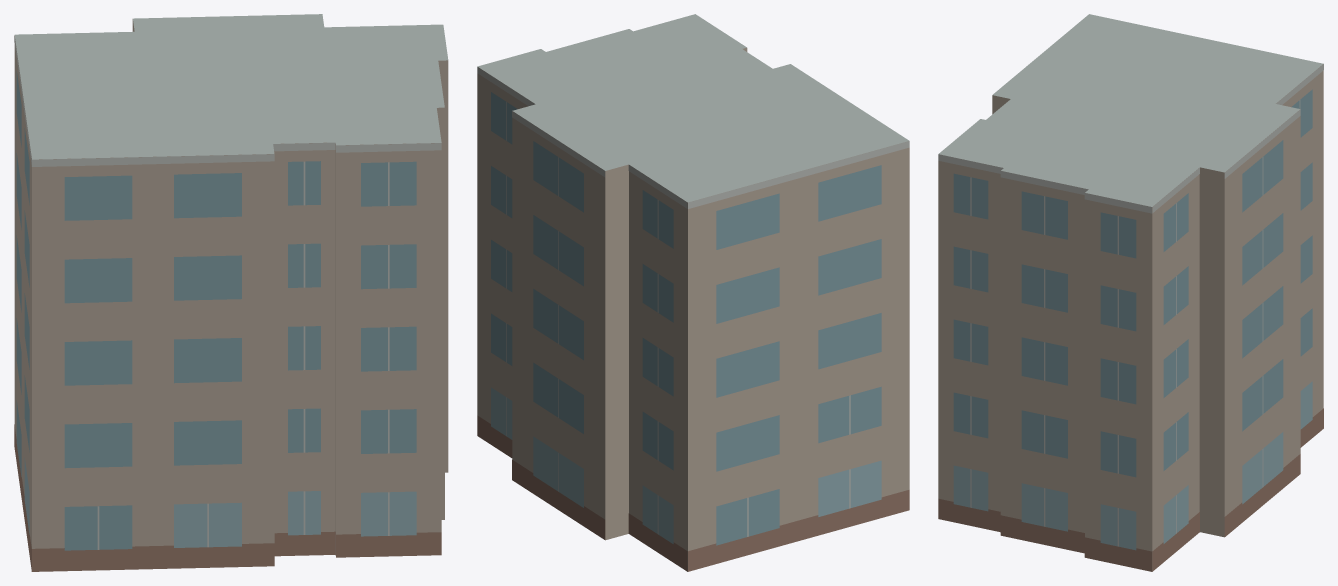
Rendered from survey-upis-32607467.glb.
3 renders of one model, left to right at view 1: azimuth 30°, elevation 25°; view 2: azimuth 150°, elevation 25°; view 3: azimuth 270°, elevation 25°, orthographic. The views are drawn at different scales.
Visible parts, largest first — view 1: survey-upis-32607467.tmp; view 2: survey-upis-32607467.tmp; view 3: survey-upis-32607467.tmp.
Part boxes in pixels (bbox=[...]): survey-upis-32607467.tmp: bbox=[14, 14, 448, 571]; survey-upis-32607467.tmp: bbox=[477, 14, 909, 571]; survey-upis-32607467.tmp: bbox=[938, 14, 1323, 571].
Size of the model in its own units: 15.33 by 13.5 by 12.94.
